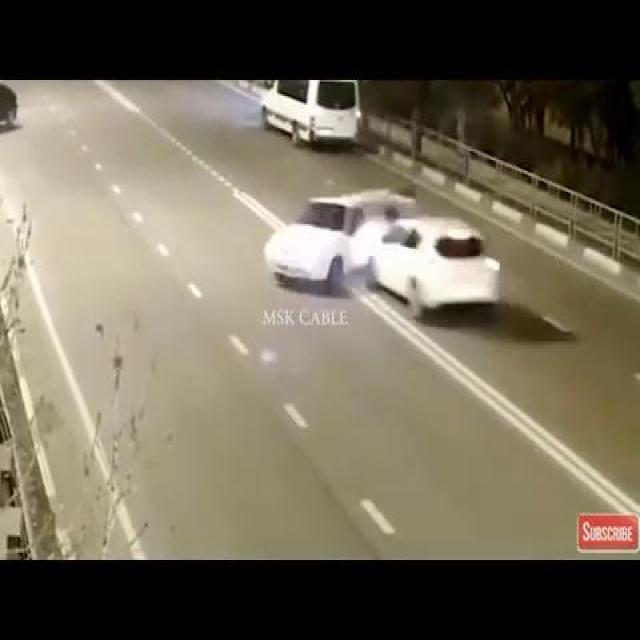accident: (283, 170, 487, 322)
